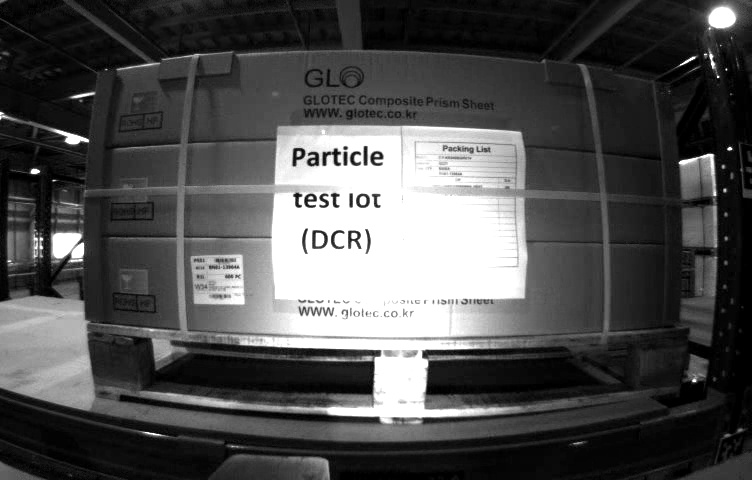True Barcode: (192, 254, 243, 308)
